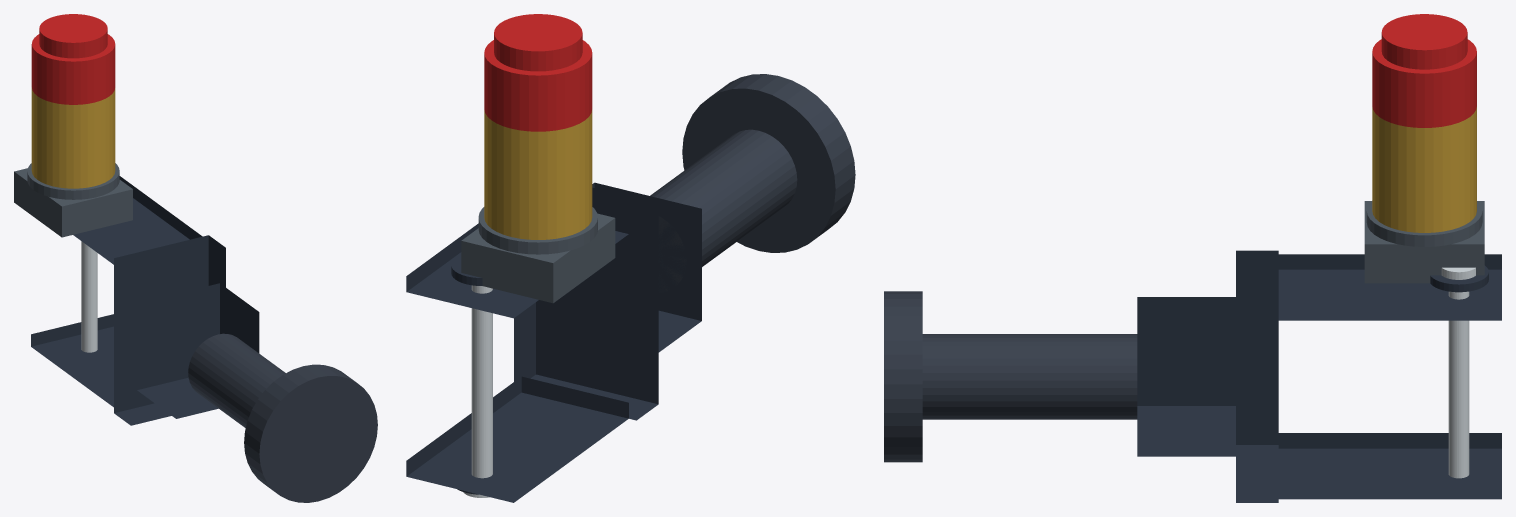
Rendered from steer_bracket.dae.
The picture shows the model from 3 angles, left to right: view 1: azimuth 30°, elevation 25°; view 2: azimuth 150°, elevation 25°; view 3: azimuth 270°, elevation 25°; orthographic projection. The views are drawn at different scales.
Parts seen in each view (by area): view 1: RootNode (×6); view 2: RootNode (×6); view 3: RootNode (×6).
Part boxes in pixels (x1,y1,x2,y2): RootNode (×6): [14, 14, 377, 502]; RootNode (×6): [406, 14, 855, 502]; RootNode (×6): [884, 14, 1501, 502].
Bounding box in the file's own units: 0.0435 × 0.113 × 0.144.
